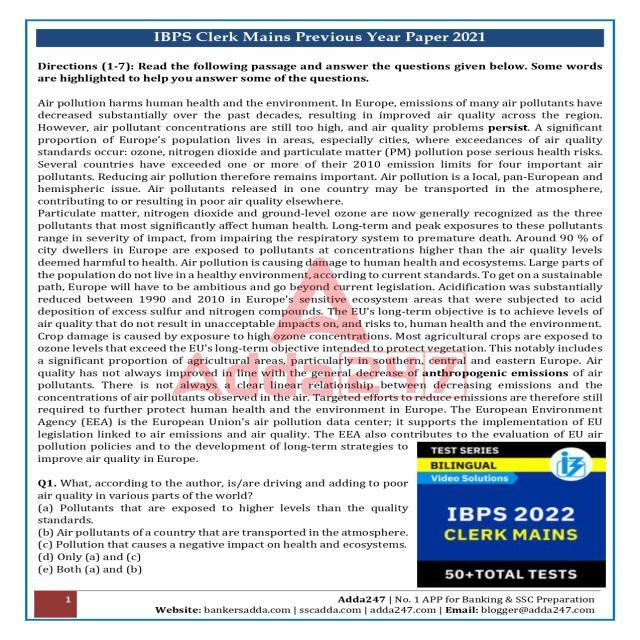Answer_Block: (26, 504, 610, 578)
Description: (28, 58, 612, 476)
Question_Answer_Block: (24, 476, 610, 576)
Question_Block: (26, 475, 604, 502)
Question_Paper_Area: (26, 22, 614, 584)
